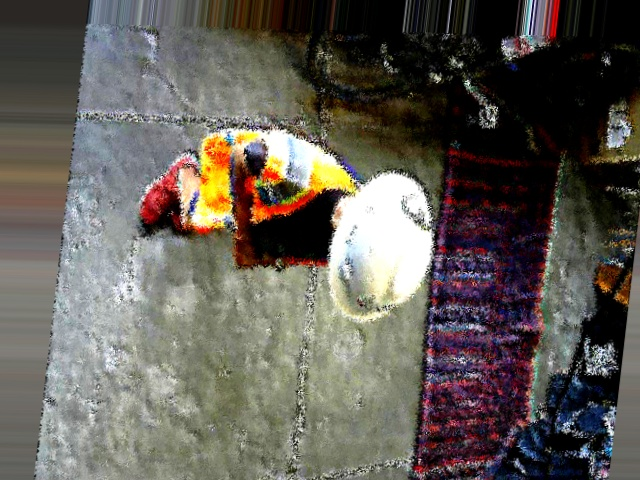three: (402, 193, 436, 228)
